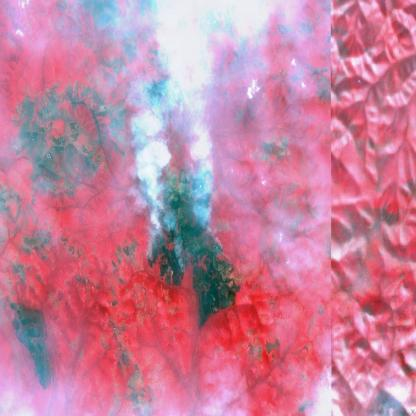fire: (207, 224, 227, 262), (169, 251, 193, 278), (144, 227, 156, 265)
